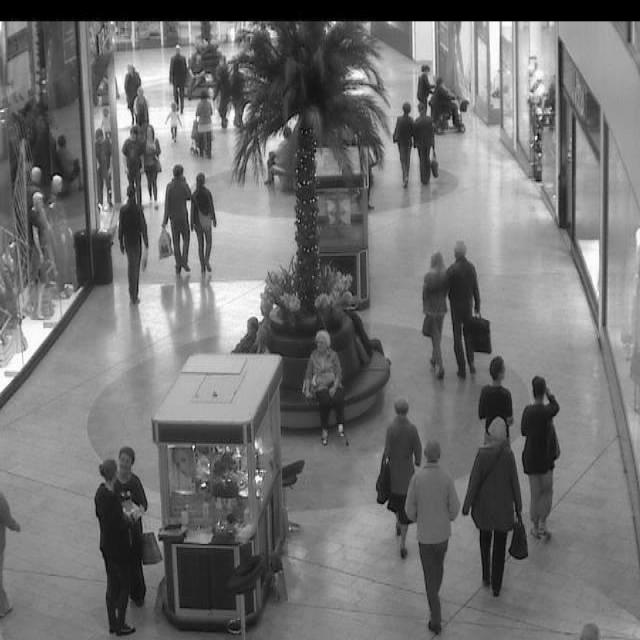person: (404, 433, 466, 632), (472, 413, 518, 611), (373, 377, 418, 575), (90, 452, 134, 633), (300, 322, 358, 454), (448, 231, 492, 381), (116, 439, 152, 608), (524, 373, 557, 551), (416, 242, 452, 386), (162, 156, 194, 277), (116, 180, 146, 308), (192, 168, 224, 273), (414, 97, 448, 183), (482, 348, 512, 427), (392, 98, 414, 194), (430, 76, 468, 129), (120, 126, 142, 202), (192, 90, 216, 158), (142, 125, 162, 204), (168, 42, 188, 114), (128, 84, 152, 133), (237, 313, 260, 360), (414, 50, 430, 114), (253, 316, 274, 359), (124, 61, 140, 115), (165, 98, 182, 146)
